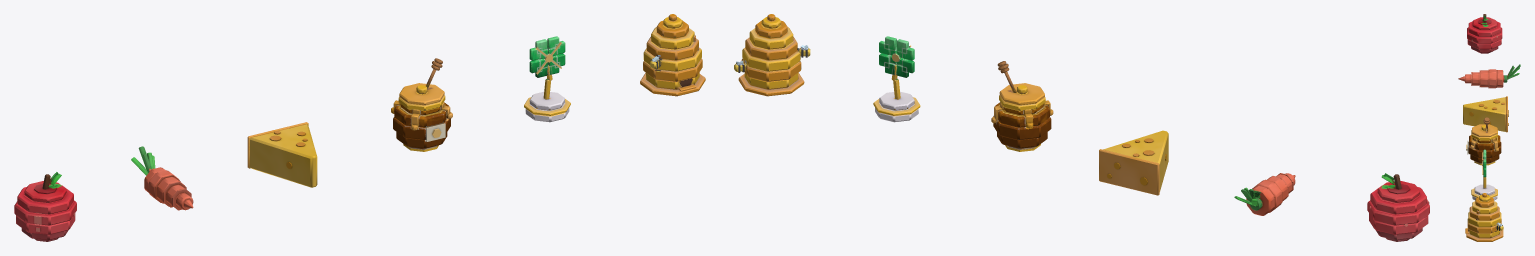
The model's file is Objets_Prairie_Rig.fbx.
3 views of the same model, side by side, from view 1: azimuth 30°, elevation 25°; view 2: azimuth 150°, elevation 25°; view 3: azimuth 270°, elevation 25° (orthographic). The views are drawn at different scales.
Parts seen in each view (by area): view 1: RucheDOr, PotDeMiel, Fromage, Pomme, Trefle, Carotte; view 2: RucheDOr, PotDeMiel, Fromage, Pomme, Trefle, Carotte; view 3: RucheDOr, PotDeMiel, Fromage, Pomme, Carotte, Trefle.
Boxes of the visible parts, box(x1,y1,x2,y2) form: RucheDOr: box(640, 14, 705, 96); PotDeMiel: box(391, 58, 452, 151); Fromage: box(247, 122, 317, 187); Pomme: box(14, 172, 76, 241); Trefle: box(524, 36, 570, 122); Carotte: box(131, 146, 193, 210); RucheDOr: box(734, 14, 810, 96); PotDeMiel: box(991, 61, 1053, 151); Fromage: box(1099, 130, 1168, 195); Pomme: box(1367, 173, 1429, 241); Trefle: box(873, 36, 920, 122); Carotte: box(1234, 173, 1295, 215); RucheDOr: box(1465, 193, 1503, 241); PotDeMiel: box(1466, 117, 1501, 165); Fromage: box(1463, 96, 1508, 132); Pomme: box(1467, 14, 1502, 53); Carotte: box(1458, 64, 1520, 88); Trefle: box(1471, 149, 1497, 200).
Bounding box in the file's own units: 53.35 × 6 × 7.04.
Materials: 1 (1 with a texture image).
